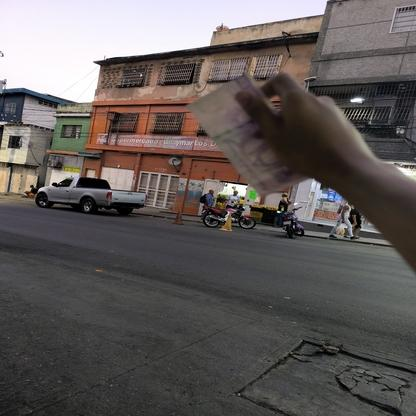one_hundred-back-vef: (186, 71, 310, 196)
